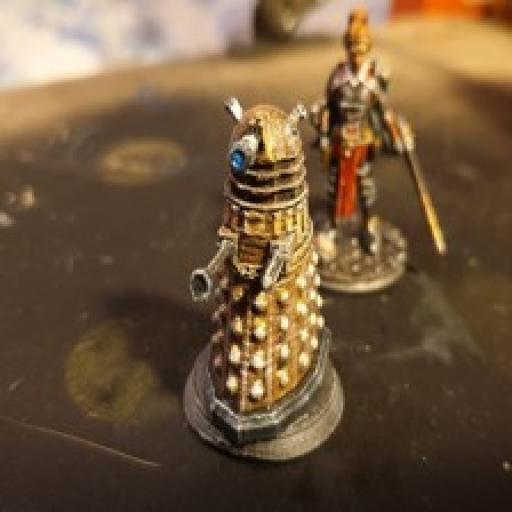dalek: (188, 92, 334, 441)
